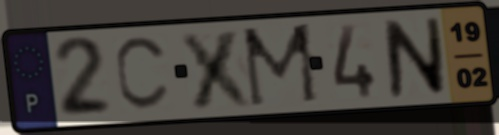2: (50, 34, 115, 123)
4: (330, 21, 380, 102)
C: (112, 33, 173, 114)
M: (239, 20, 323, 112)
N: (381, 15, 449, 101)
X: (176, 26, 260, 112)
